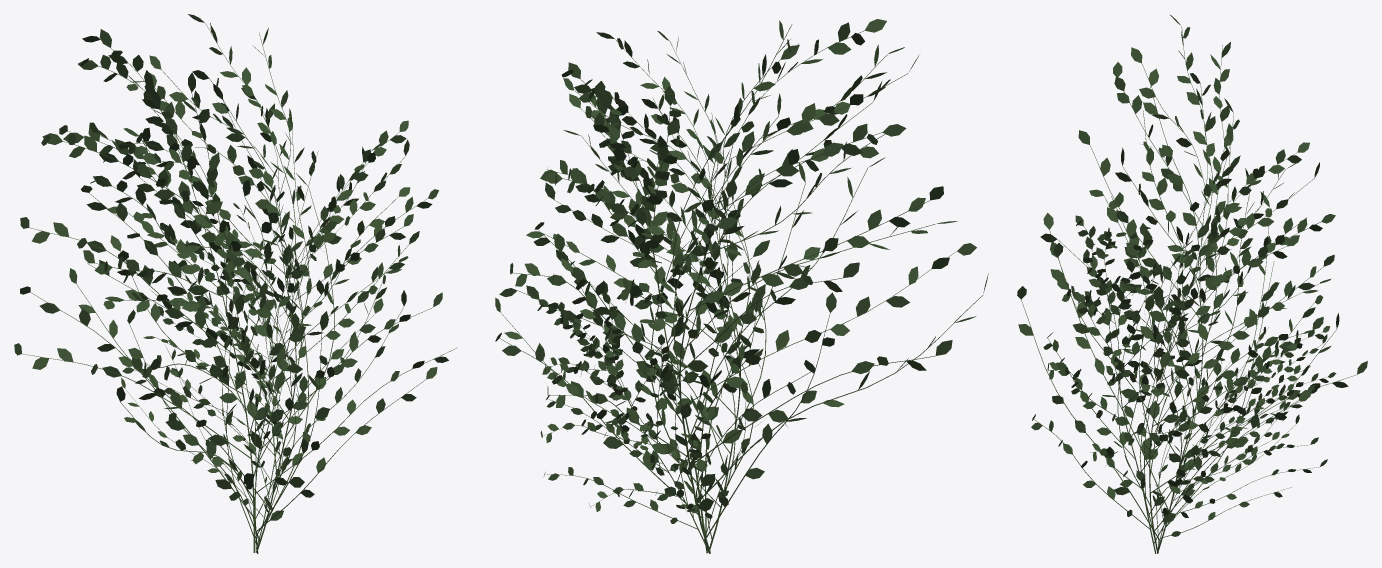
Rendered from bush5.glb.
3 renders of one model, left to right at view 1: azimuth 30°, elevation 25°; view 2: azimuth 150°, elevation 25°; view 3: azimuth 270°, elevation 25°, orthographic. The views are drawn at different scales.
Visible parts, largest first — view 1: bush5; view 2: bush5; view 3: bush5.
Boxes of the visible parts, x1,y1,x2,y2 form: bush5: (14,14,457,553); bush5: (495,19,988,553); bush5: (1017,15,1367,553).
Size of the model in its own units: 1.04 by 1.3 by 0.8826.
Materials: 1 (1 with a texture image).
